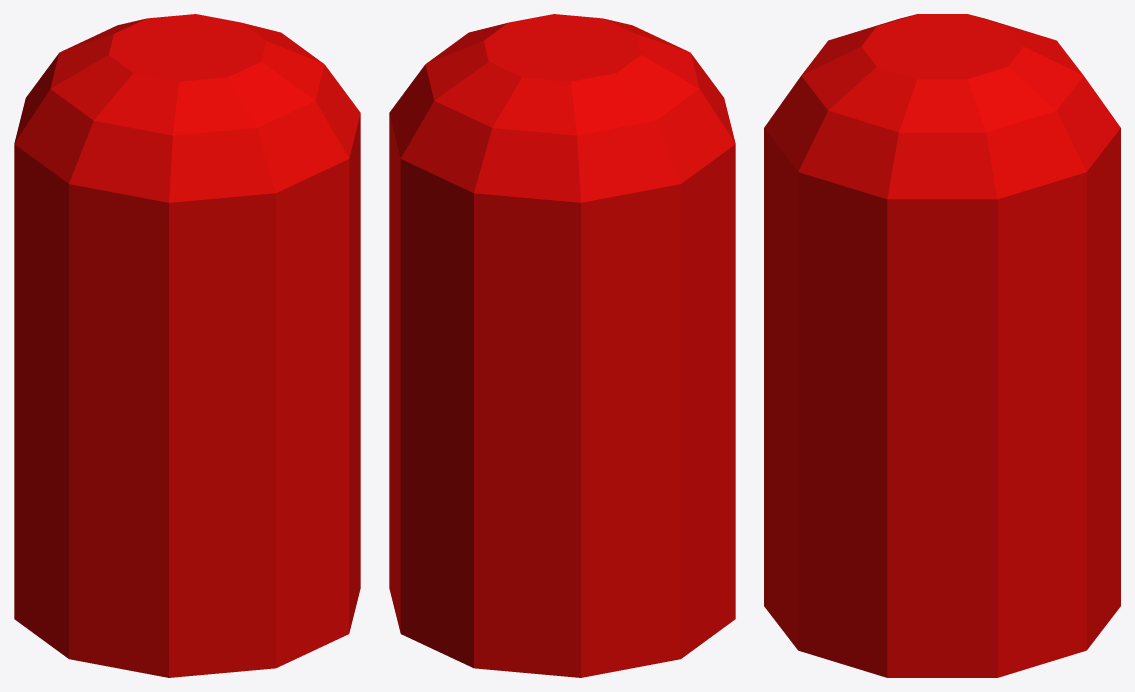
Rendered from SM_Captain.001.fbx.
3 views of the same model, side by side, from view 1: azimuth 30°, elevation 25°; view 2: azimuth 150°, elevation 25°; view 3: azimuth 270°, elevation 25° (orthographic).
Visible parts, largest first — view 1: SM_Captain.001; view 2: SM_Captain.001; view 3: SM_Captain.001.
Part boxes in pixels (x1=…): SM_Captain.001: x1=14, y1=14, x2=360, y2=677; SM_Captain.001: x1=389, y1=14, x2=735, y2=677; SM_Captain.001: x1=764, y1=14, x2=1120, y2=677.
Size of the model in its own units: 0.3223 by 0.3389 by 0.5867.
